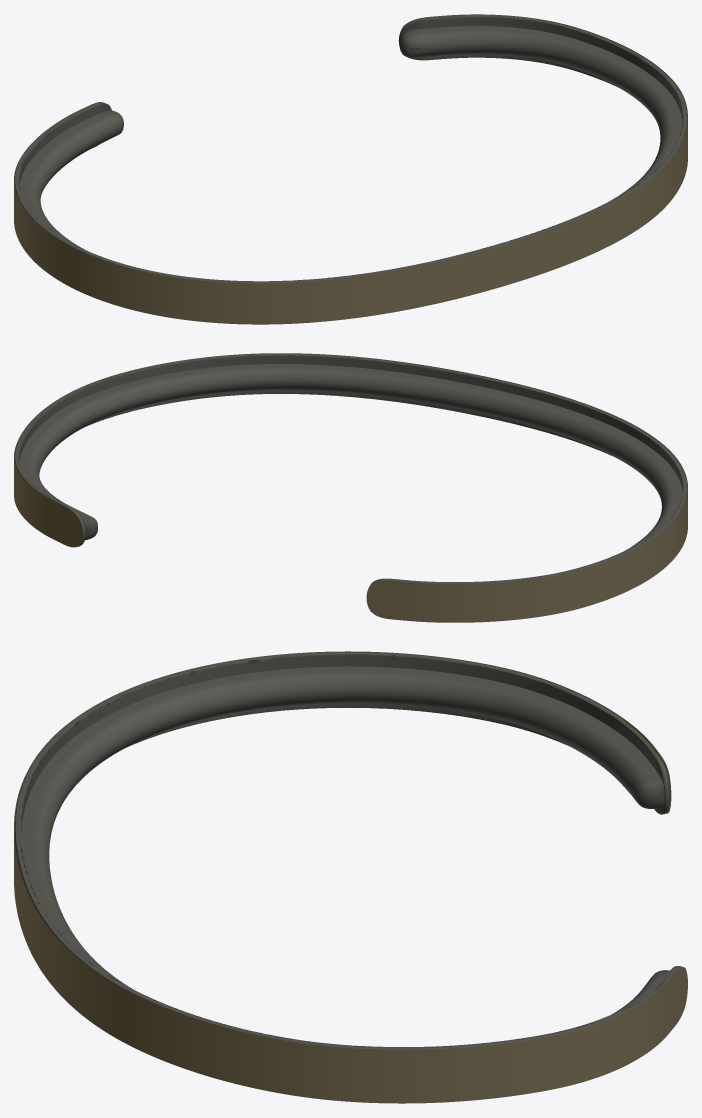
Rendered from EX-bold-black.glb.
3 views of the same model, one above another, from view 1: azimuth 30°, elevation 25°; view 2: azimuth 150°, elevation 25°; view 3: azimuth 270°, elevation 25° (orthographic). The views are drawn at different scales.
Visible parts, largest first — view 1: EX-omote.003, EX-body.003; view 2: EX-body.003, EX-omote.003; view 3: EX-body.003, EX-omote.003.
Boxes of the visible parts, x1,y1,x2,y2 form: EX-omote.003: [14, 14, 687, 324]; EX-body.003: [14, 15, 687, 283]; EX-body.003: [14, 353, 687, 584]; EX-omote.003: [14, 353, 687, 622]; EX-body.003: [14, 652, 682, 1049]; EX-omote.003: [14, 651, 687, 1103].
Bounding box in the file's own units: 3.45 × 0.2162 × 2.47.
Materials: 2 (2 with a texture image).
